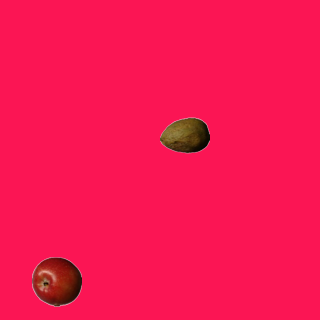Apple Braeburn: (31, 256, 81, 306)
Papaya: (159, 110, 209, 160)
